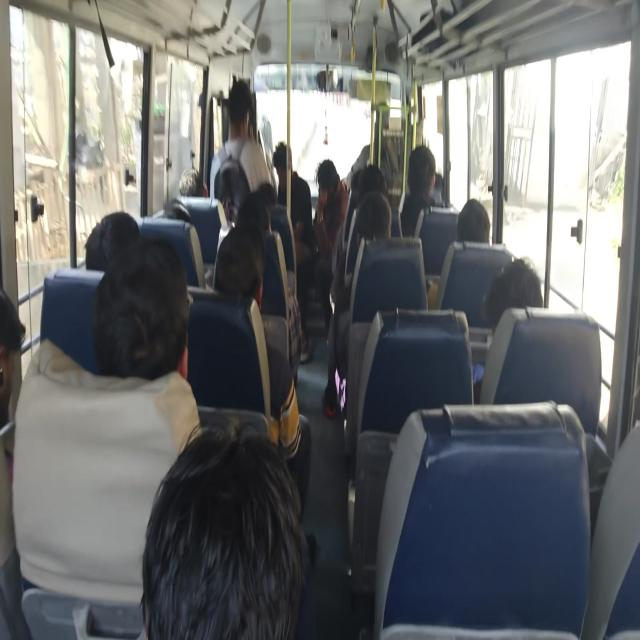person: (146, 434, 323, 640), (109, 240, 201, 407), (0, 287, 32, 521), (353, 195, 413, 268), (207, 242, 258, 320), (87, 205, 145, 271), (491, 255, 542, 325), (448, 193, 496, 249), (241, 192, 272, 261), (180, 168, 224, 214), (270, 128, 306, 176), (413, 140, 445, 192), (247, 175, 285, 216), (314, 162, 350, 204), (226, 79, 258, 118), (362, 156, 388, 198)
